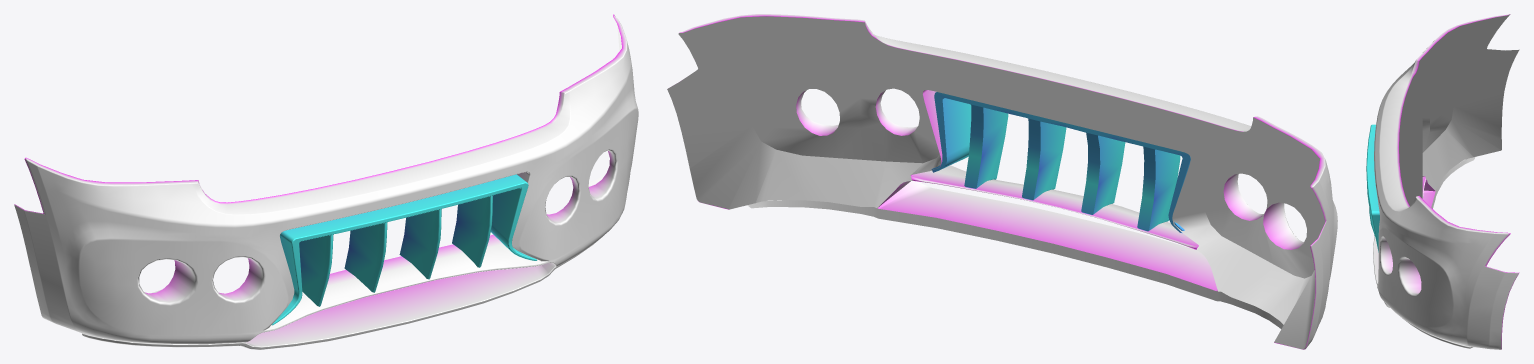
File: Car_Mini_CountrymanJCW_2017_BumperF_SetC_AltC.fbx
3 renders of one model, left to right at view 1: azimuth 30°, elevation 25°; view 2: azimuth 150°, elevation 25°; view 3: azimuth 270°, elevation 25°, orthographic. The views are drawn at different scales.
Parts seen in each view (by area): view 1: BumperF 6; view 2: BumperF 6; view 3: BumperF 6.
Part boxes in pixels (x1,y1,x2,y2): BumperF 6: (14,14,638,349); BumperF 6: (667,14,1337,349); BumperF 6: (1366,14,1519,349).
Bounding box in the file's own units: 1.77 × 0.4959 × 0.5134.
